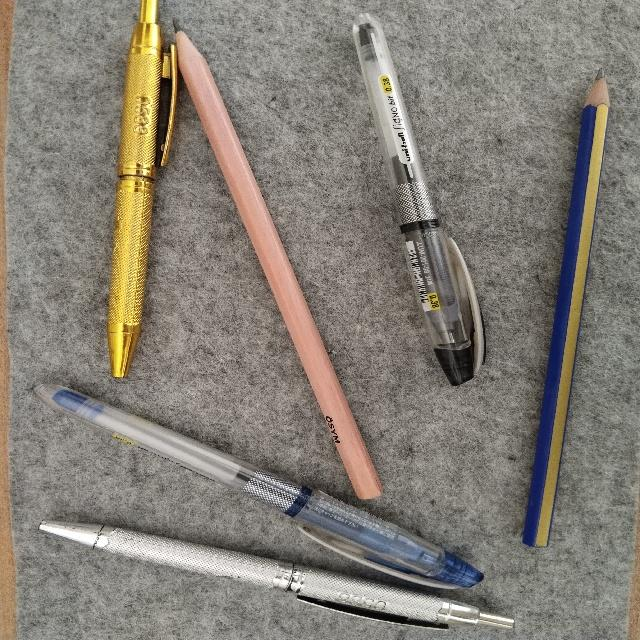pen: (35, 384, 482, 587), (353, 13, 483, 384)
pencil: (176, 31, 381, 498), (523, 71, 609, 547)
signature pen: (39, 521, 513, 628), (107, 0, 176, 377)
